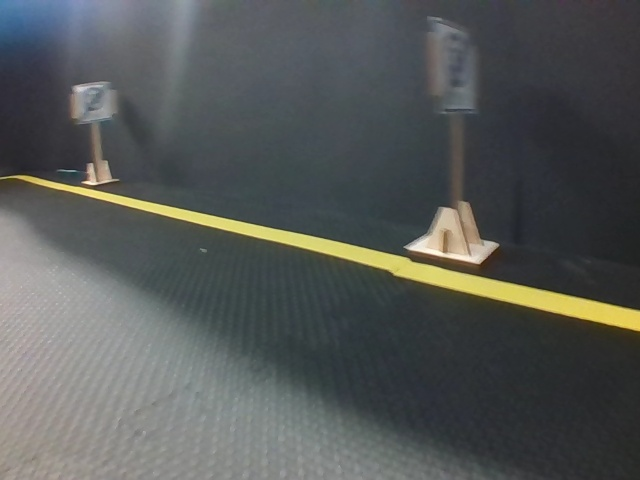no30: (437, 20, 477, 112), (76, 87, 112, 120)
